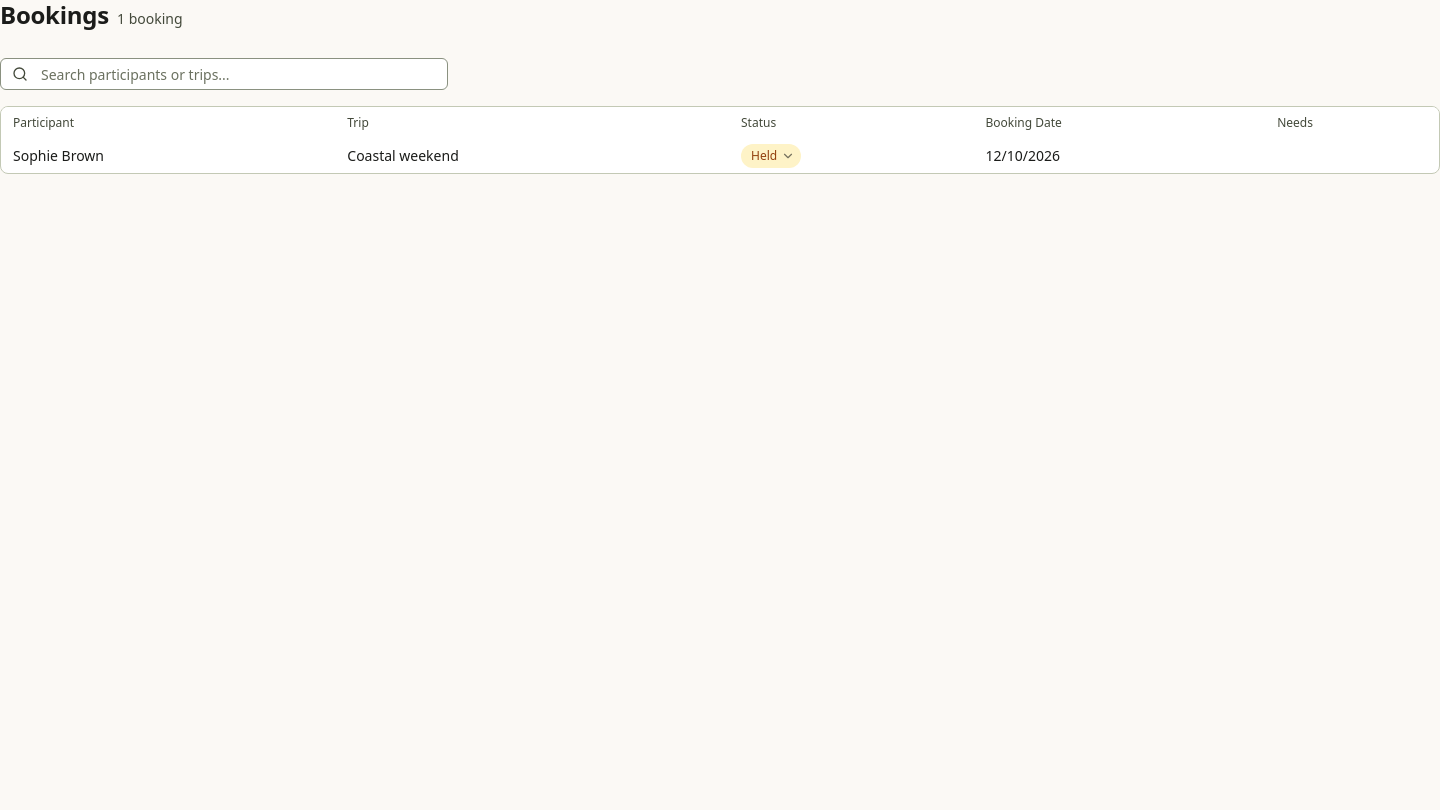
Scenario: BookingsPage — a refused status change › closes the cancel confirm and shows the message when the cancel fails
This screenshot has width=1440, height=810.
Click the button "Held" at coordinates (771, 156), box left=741, top=144, right=801, bottom=168
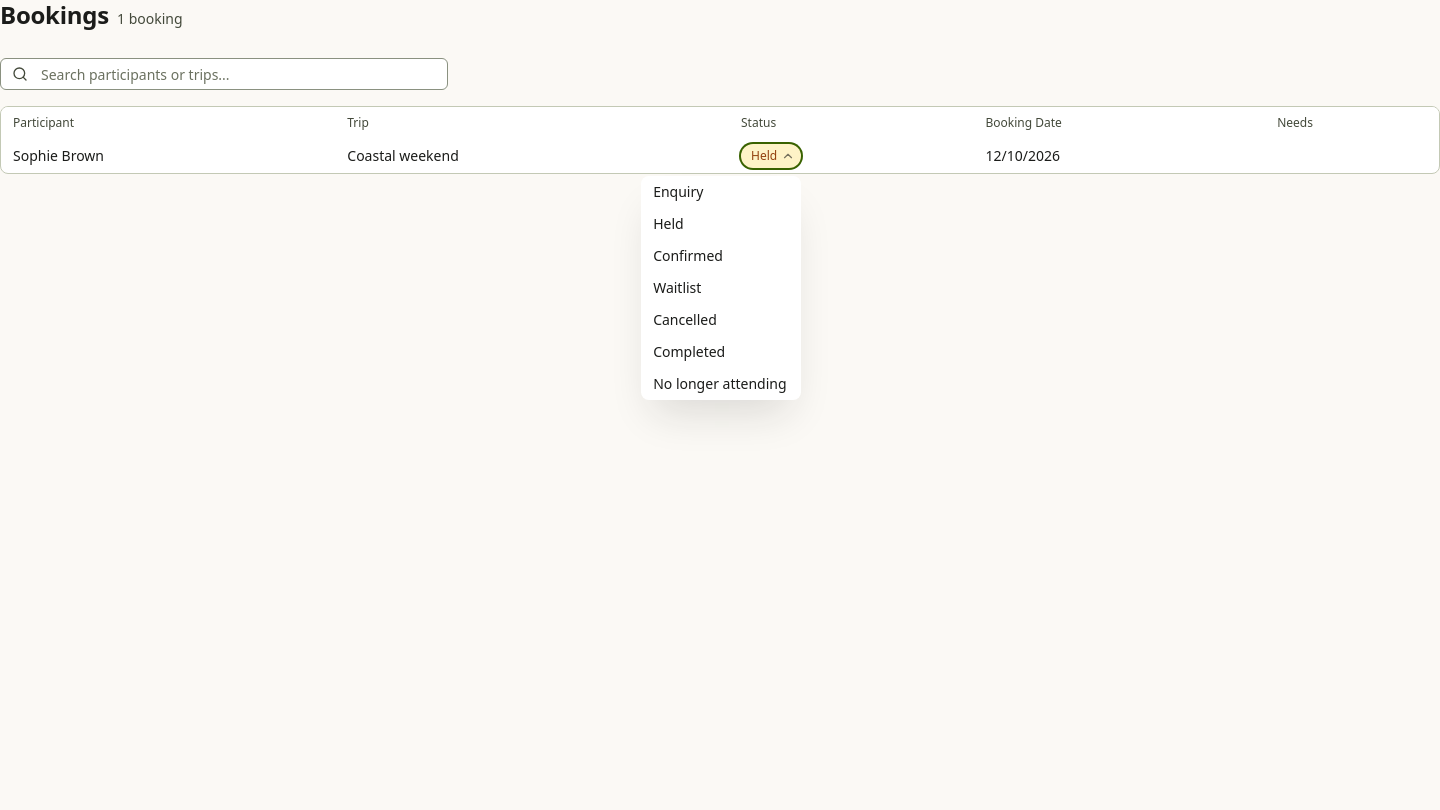
Click the option "Cancelled" at coordinates (685, 320), box left=653, top=310, right=717, bottom=329
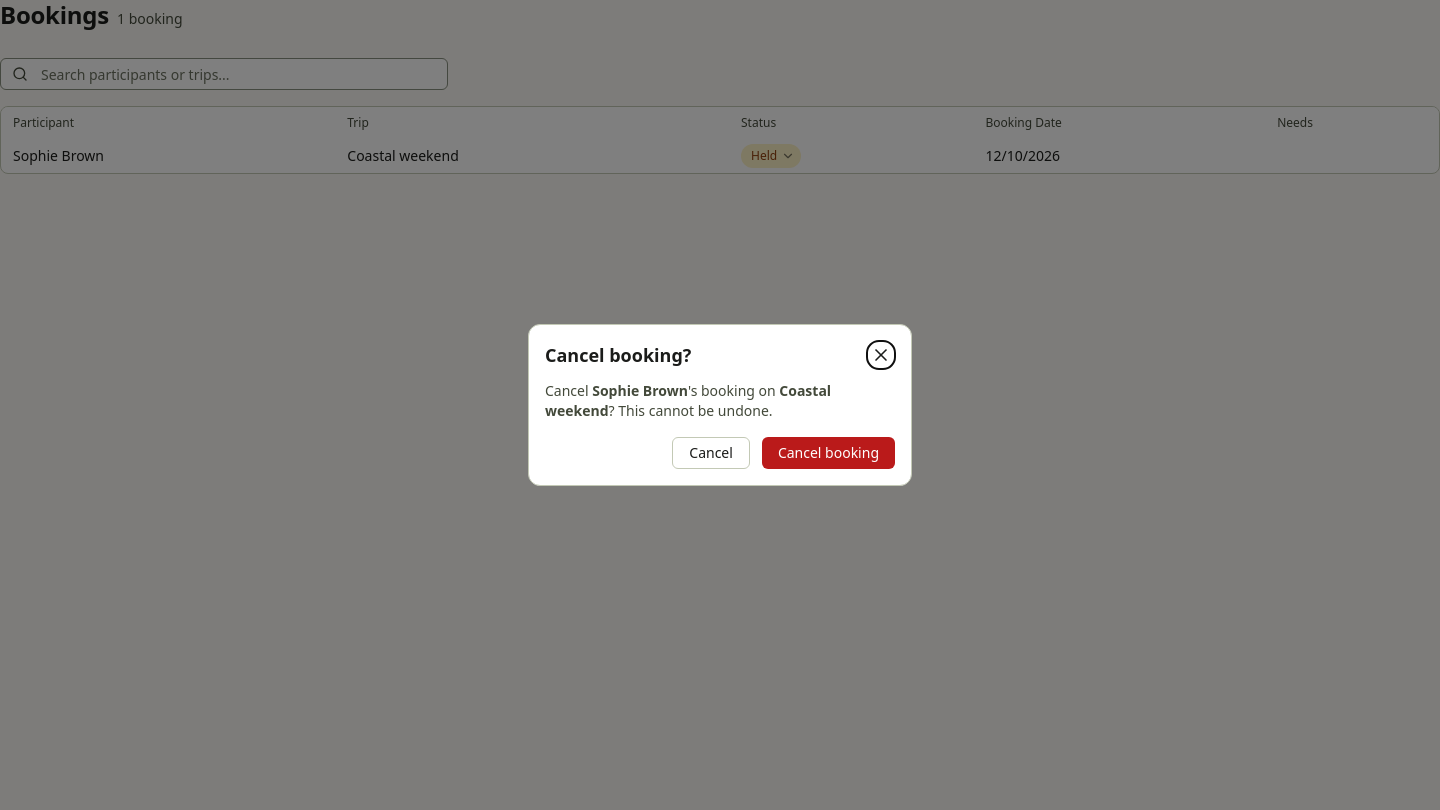
Click the button "Cancel booking" at coordinates (828, 453), box left=762, top=437, right=895, bottom=469
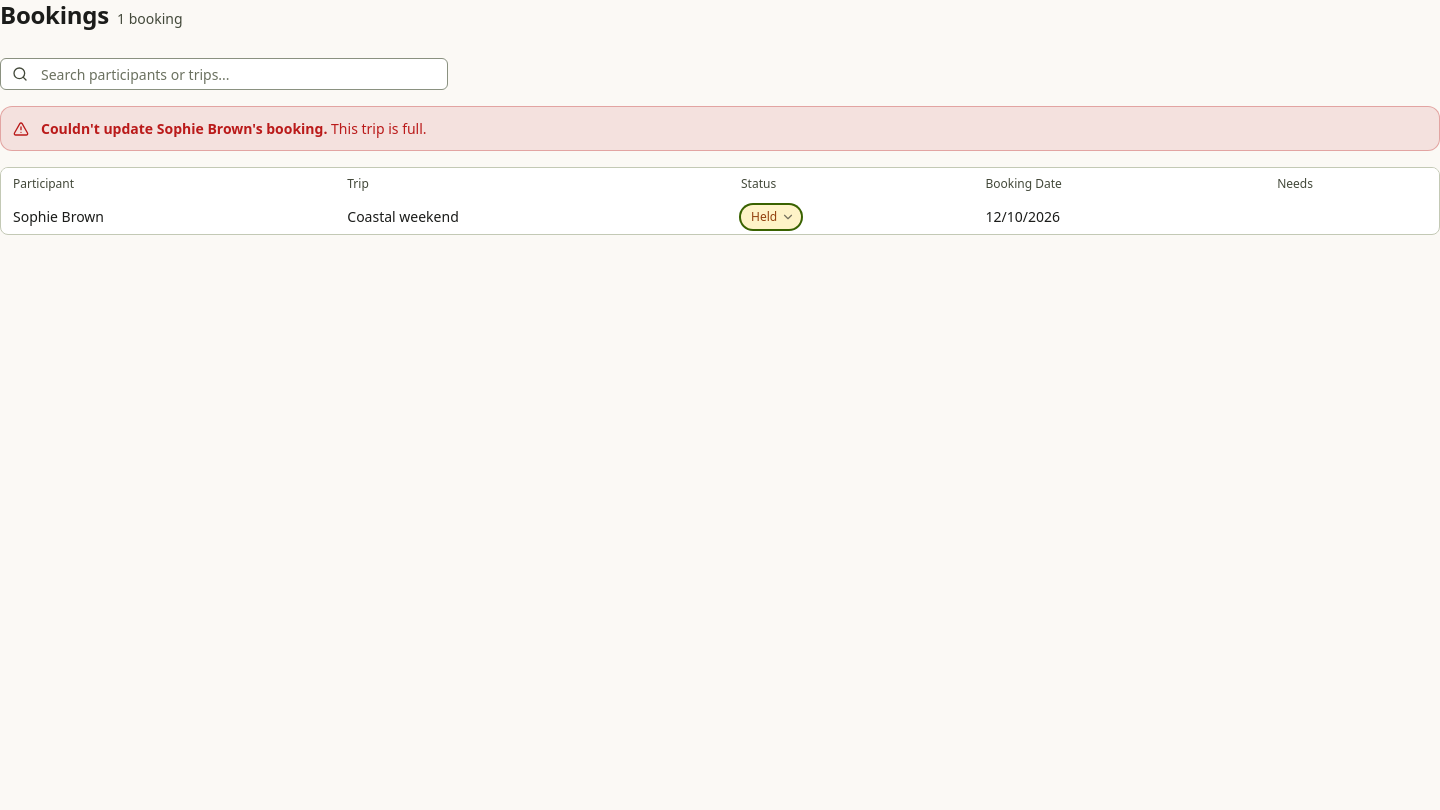
Expected: the text "Couldn't update Sophie Brown's booking. This trip is full." is shown, left=41, top=119, right=427, bottom=138
Expected: the dialog is gone
